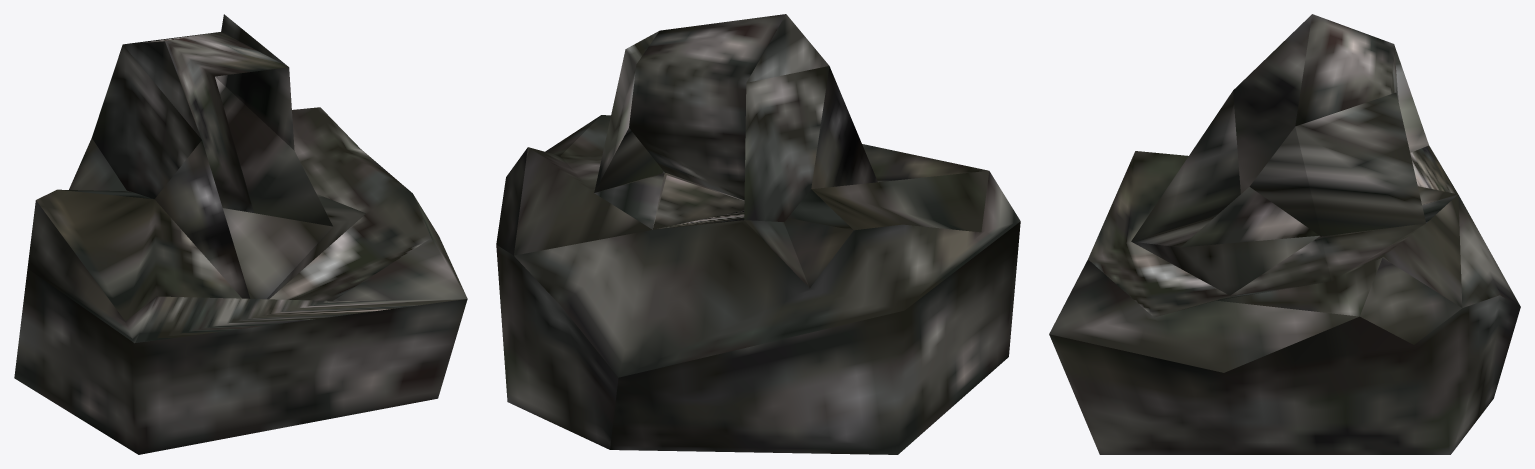
Rendered from corellian_corvette_turret_large_base_s01_destroyed_l2.fbx.
3 views of the same model, side by side, from view 1: azimuth 30°, elevation 25°; view 2: azimuth 150°, elevation 25°; view 3: azimuth 270°, elevation 25° (orthographic). The views are drawn at different scales.
Visible parts, largest first — view 1: mesh_node; view 2: mesh_node; view 3: mesh_node.
Boxes of the visible parts, x1,y1,x2,y2 form: mesh_node: [14, 14, 467, 454]; mesh_node: [496, 14, 1020, 454]; mesh_node: [1049, 14, 1520, 454].
Bounding box in the file's own units: 13.23 × 11.61 × 14.18.
1 material, 1 textured.
